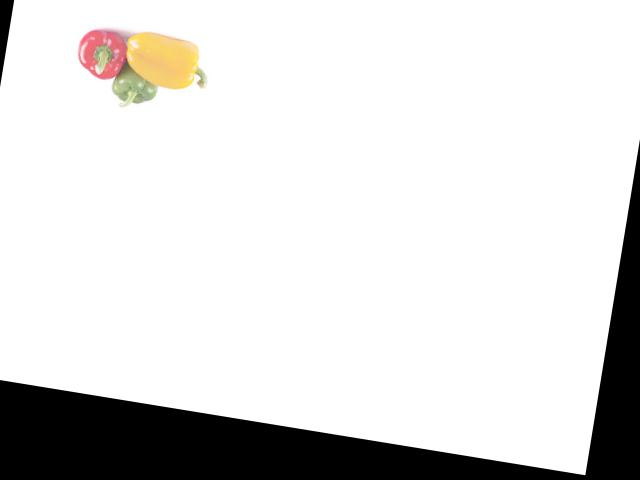bell_pepper: (104, 58, 165, 113)
